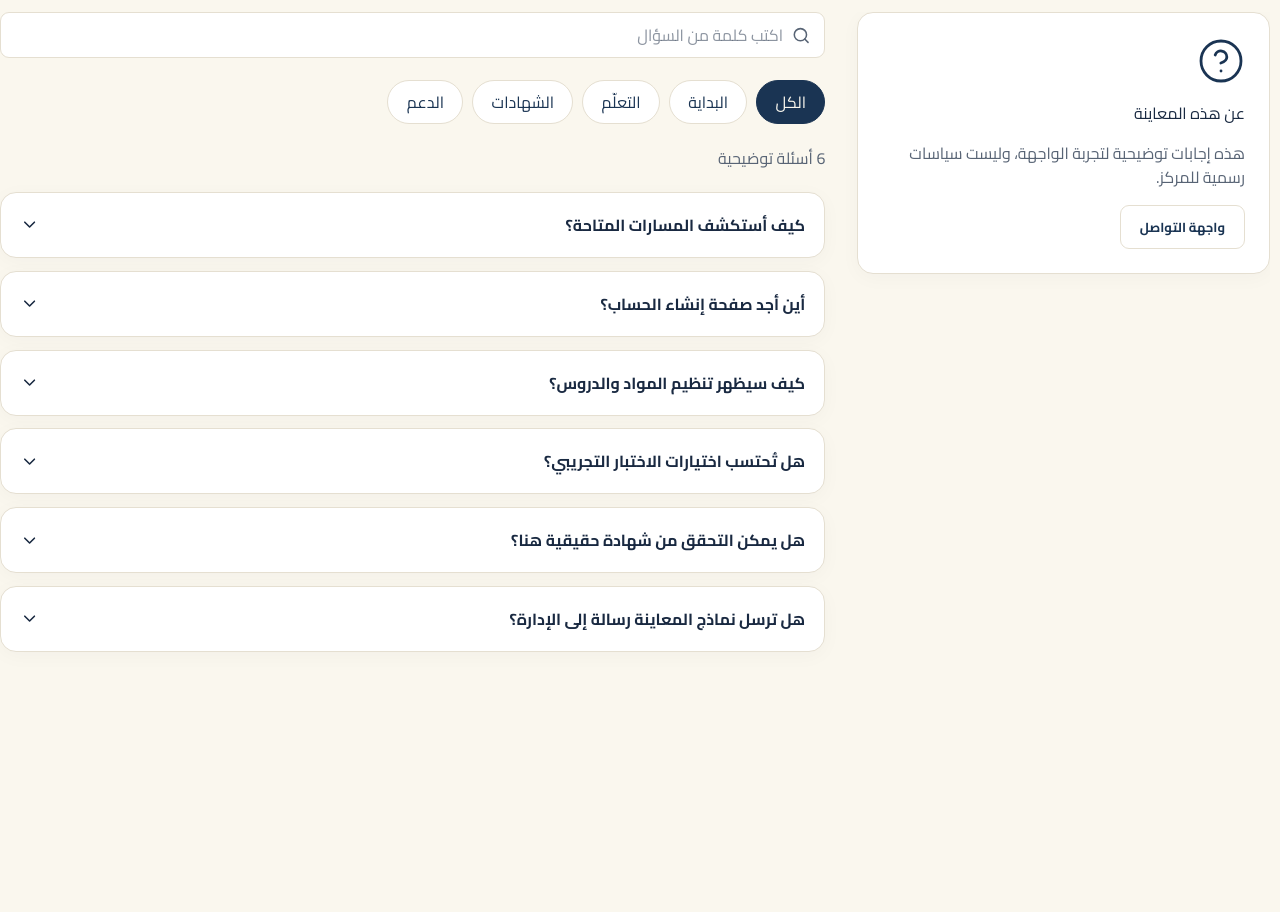
public synthetic experience interactions › filters FAQ categories without inventing official policy answers
Click the button "الشهادات" at (523, 102), box [472,80,573,124]
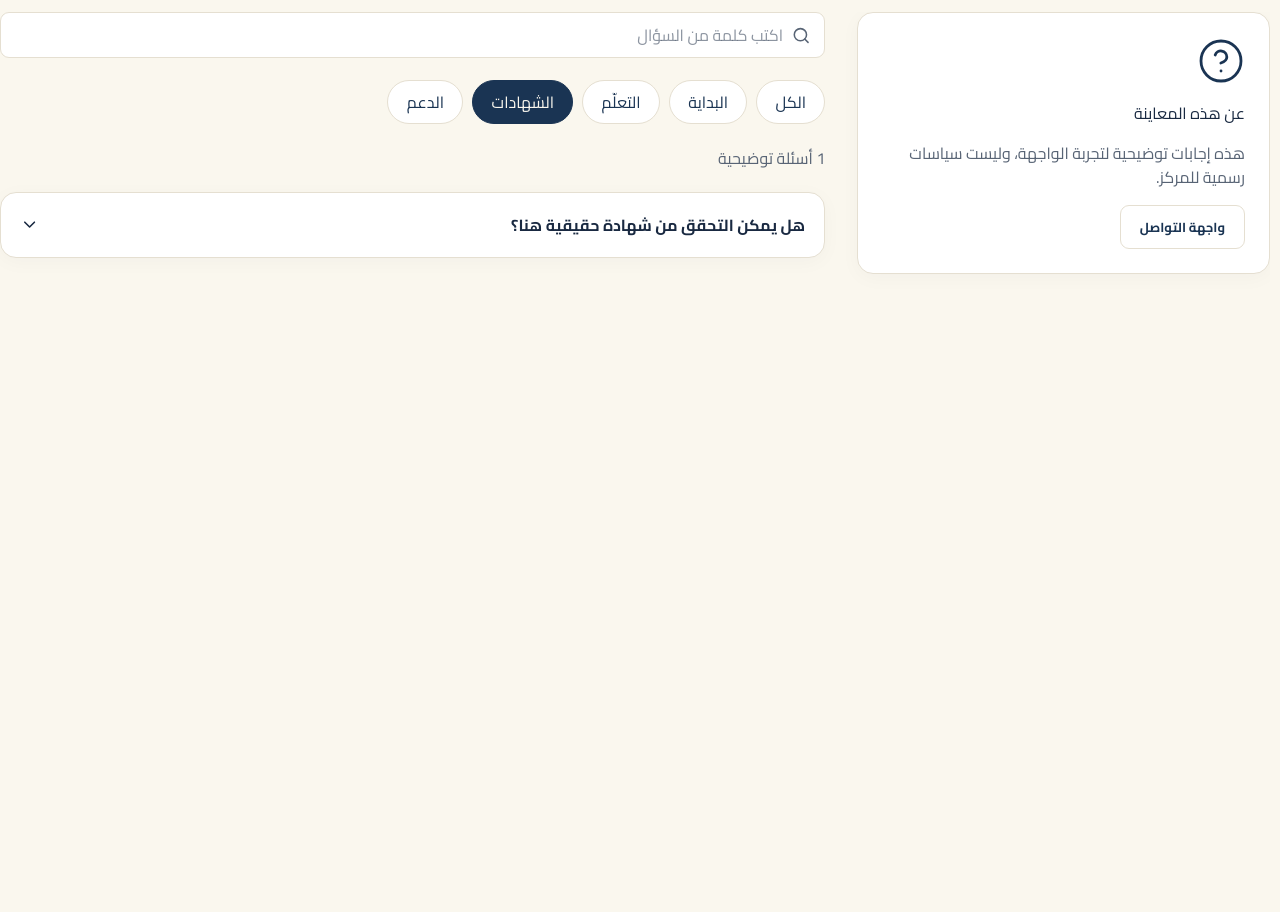
Check: the heading "هل يمكن التحقق من شهادة حقيقية هنا؟" is shown, box [20,210,805,240]
Check: the heading "كيف أستكشف المسارات المتاحة؟" is gone
